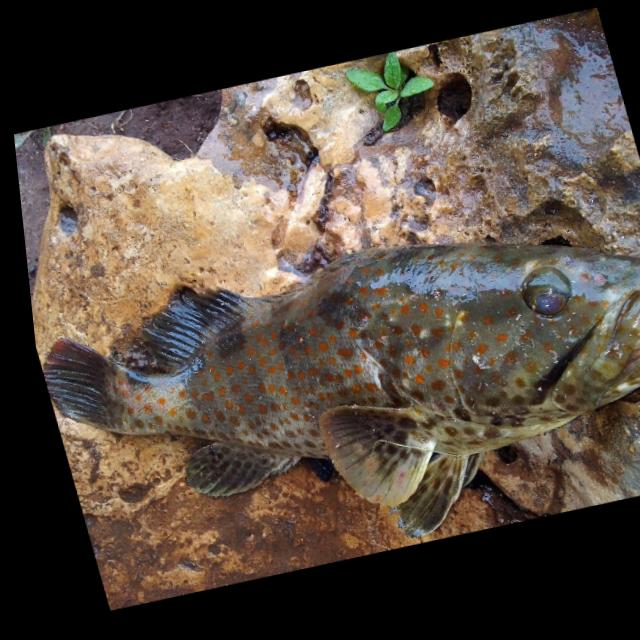Groupers: (21, 179, 640, 600)
